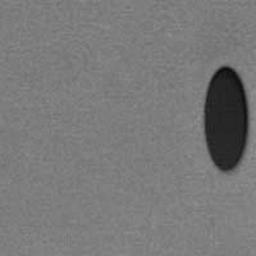Punching: (204, 66, 249, 172)
